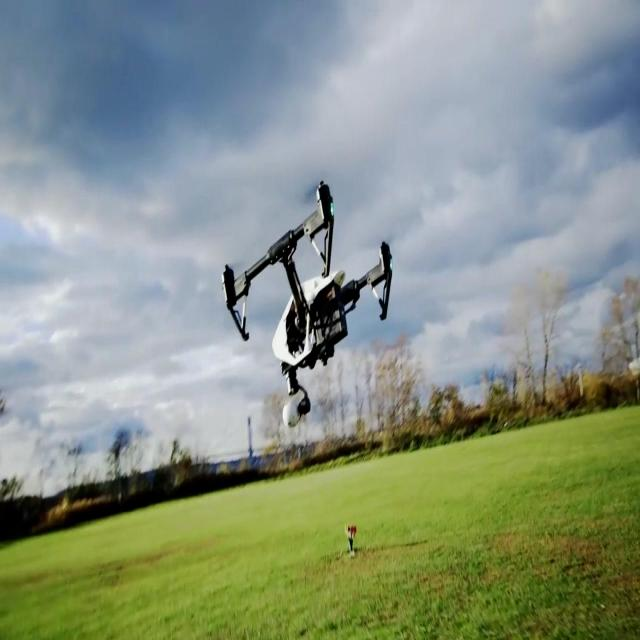drone: (221, 175, 395, 429)
